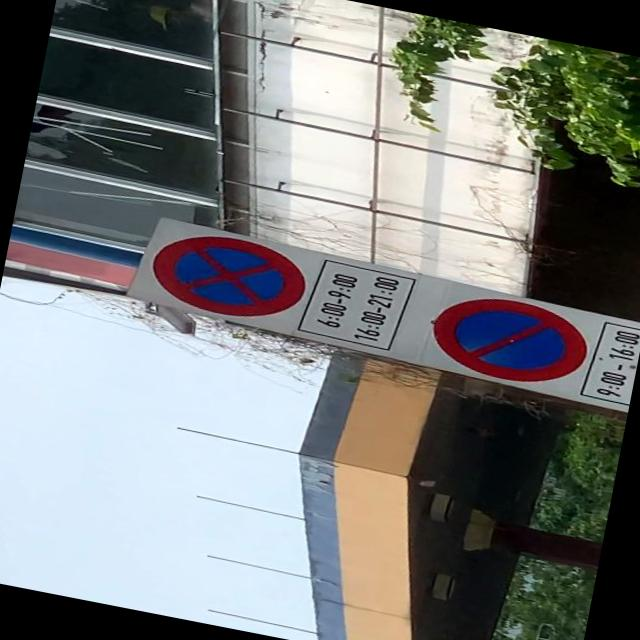P-130: (148, 223, 312, 327)
P-131a: (430, 286, 594, 392)
